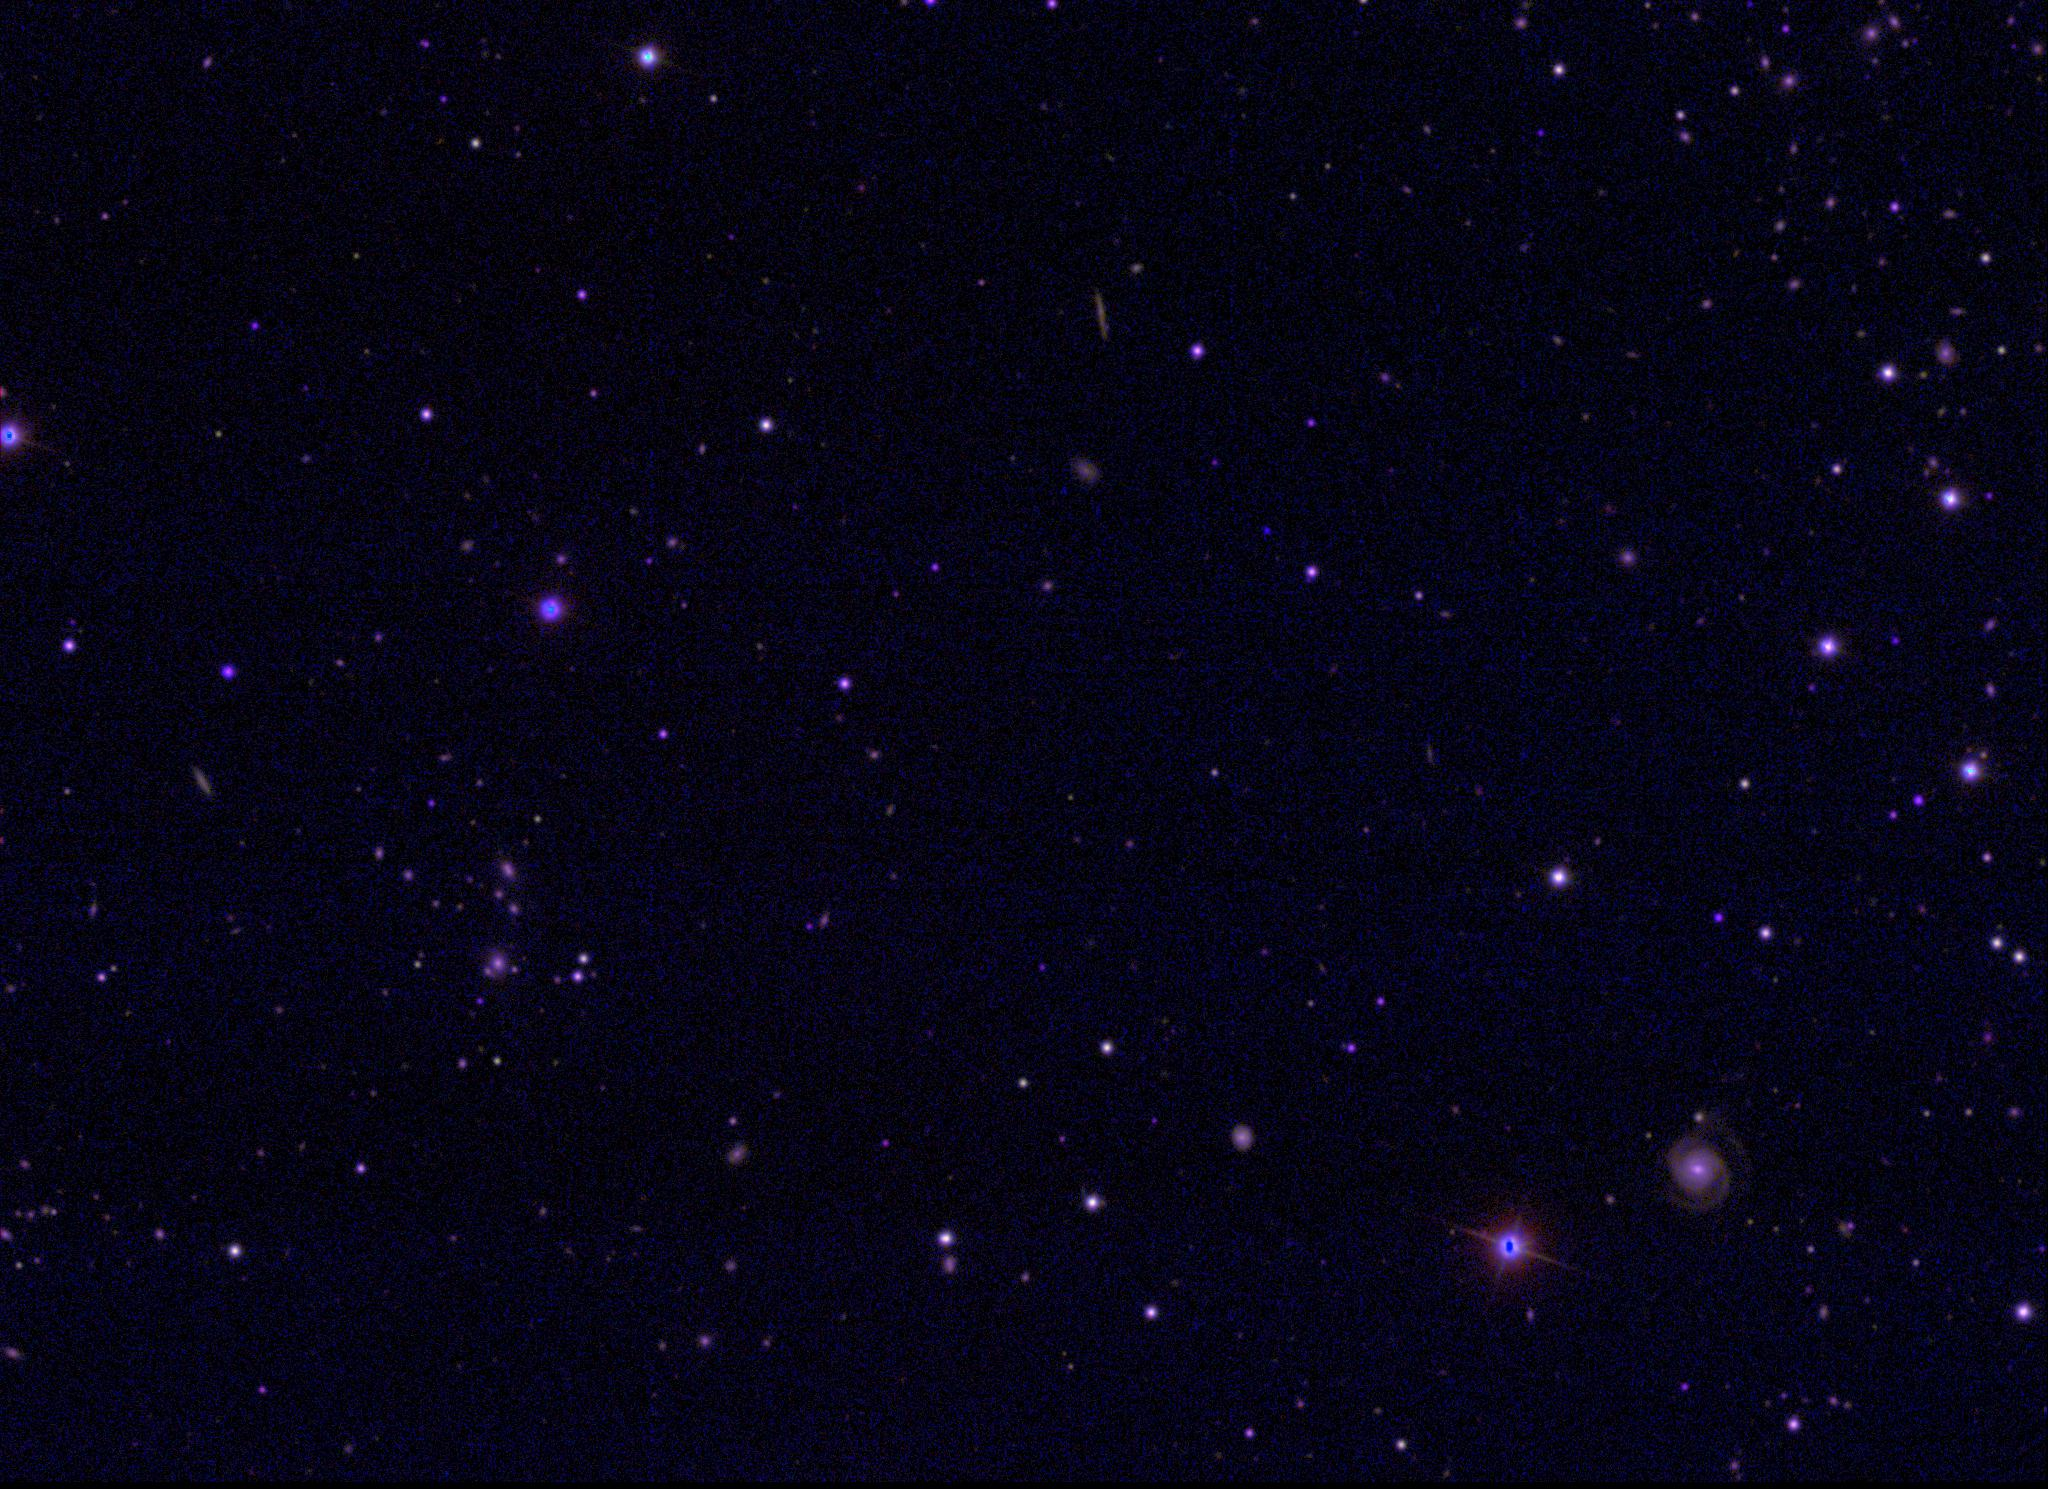L: (1259, 523, 1274, 538)
